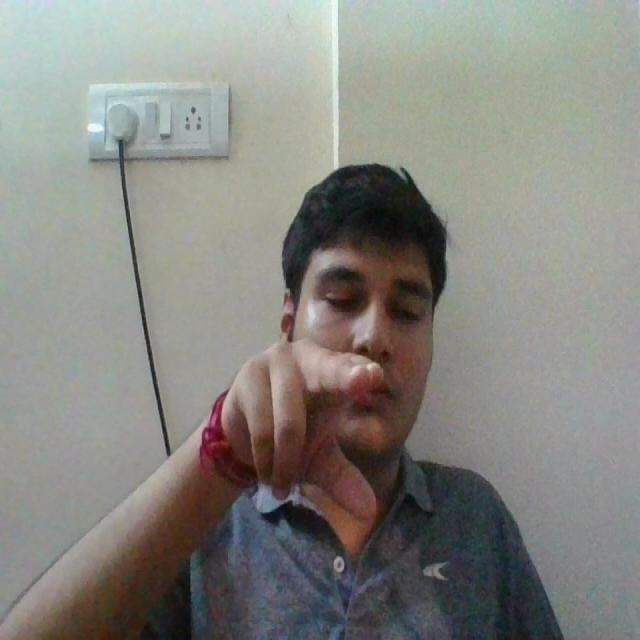no: (204, 318, 390, 532)
